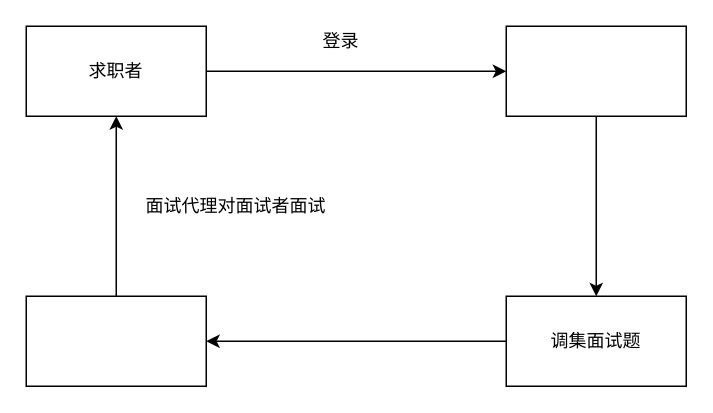
Some shapes in this 713 by 413 pixel diagram are drawn without their labels. Each missing label, with the centre of its shape:
"在线面试系统" goes at point 595,70.
"生成面试代理" goes at point 115,340.
